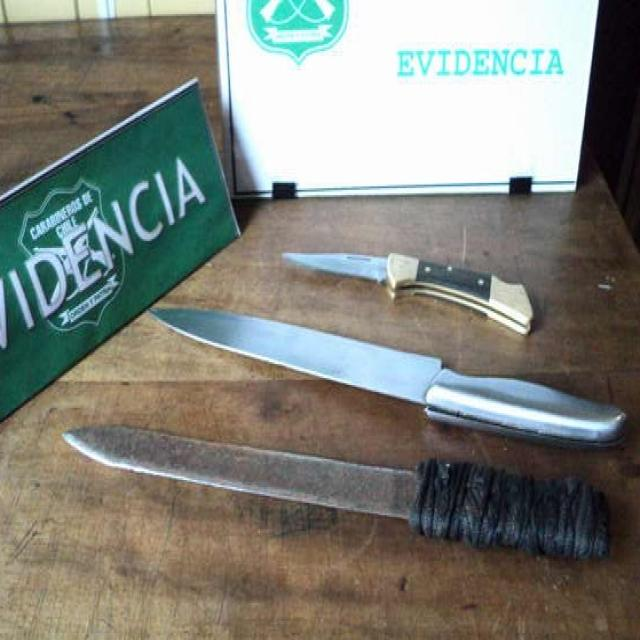knife: (147, 294, 637, 465), (57, 420, 616, 569), (283, 238, 542, 339)
